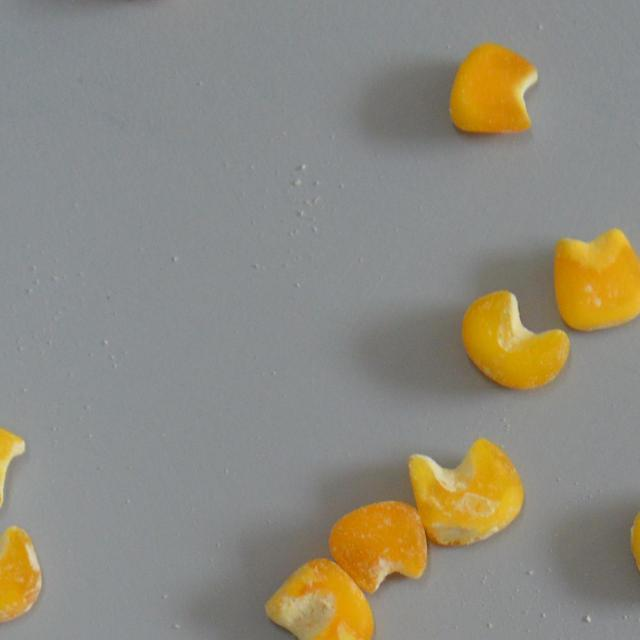no_canjicado: (448, 42, 538, 134)
pelicula: (408, 437, 524, 545), (459, 288, 570, 390), (260, 555, 373, 640), (552, 224, 640, 332), (328, 498, 428, 593), (0, 525, 42, 624), (0, 408, 24, 510)
